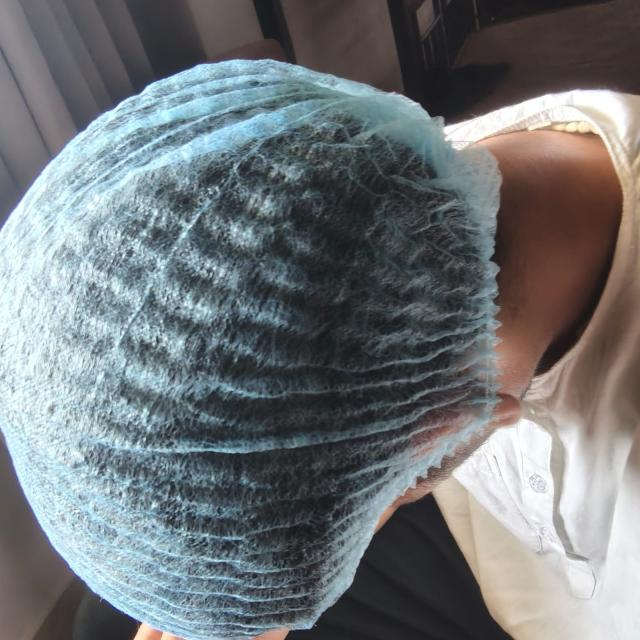hairnet-detection: (0, 60, 640, 638), (0, 60, 499, 640), (466, 134, 470, 136)
